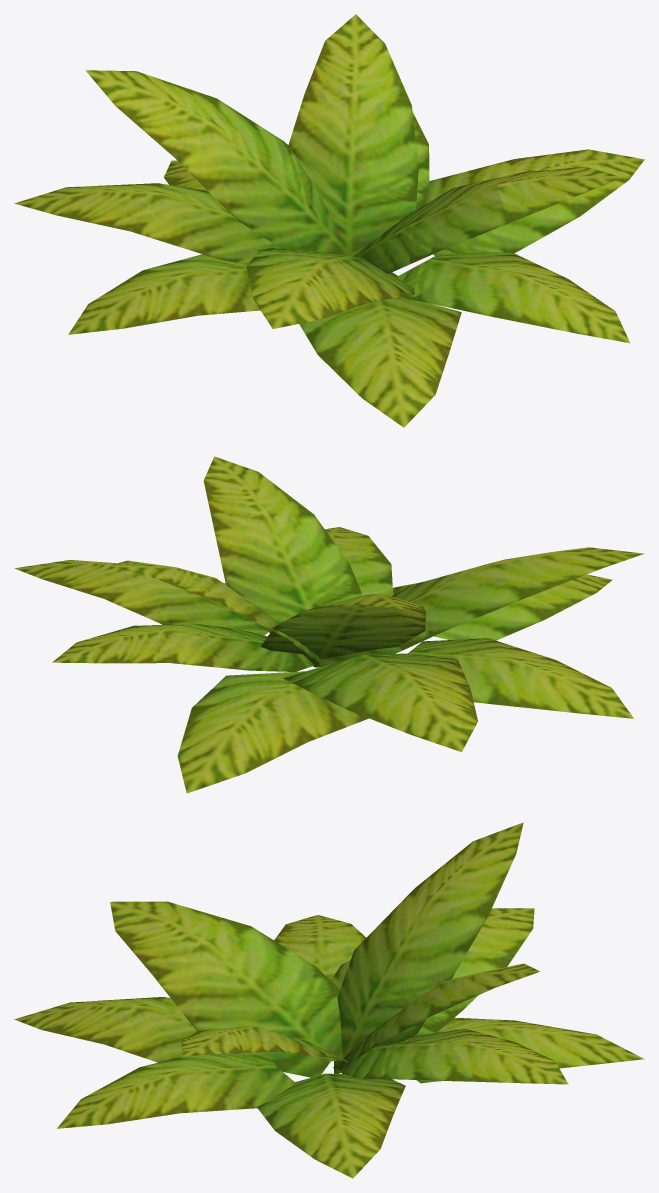
The model's file is shumu02.FBX.
3 views of the same model, one above another, from view 1: azimuth 30°, elevation 25°; view 2: azimuth 150°, elevation 25°; view 3: azimuth 270°, elevation 25° (orthographic). The views are drawn at different scales.
Parts seen in each view (by area): view 1: Mesh_0094; view 2: Mesh_0094; view 3: Mesh_0094.
Part boxes in pixels (box(x1,y1,x2,y2)): Mesh_0094: box(14, 14, 644, 427); Mesh_0094: box(14, 456, 644, 793); Mesh_0094: box(14, 822, 644, 1178).
Bounding box in the file's own units: 125 × 35.71 × 119.
Materials: 1 (1 with a texture image).
